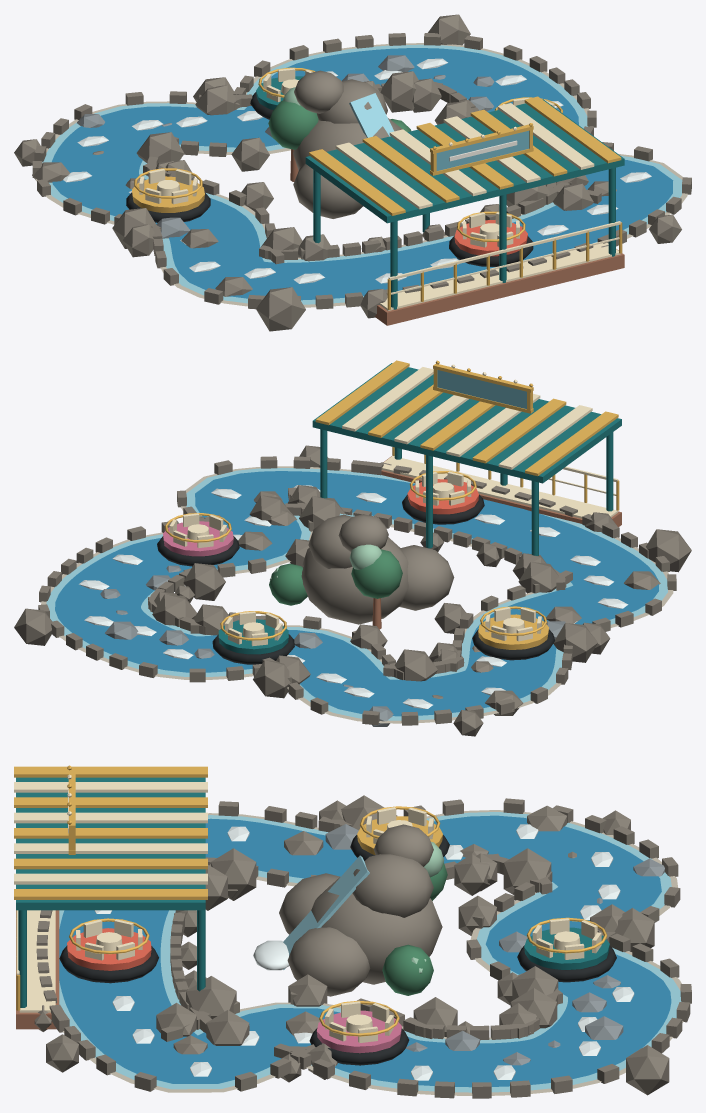
The model's file is ride_rapids.glb.
The picture shows the model from 3 angles, top to bottom: view 1: azimuth 30°, elevation 25°; view 2: azimuth 150°, elevation 25°; view 3: azimuth 270°, elevation 25°; orthographic projection. The views are drawn at different scales.
Visible parts, largest first — view 1: ride_rapids; view 2: ride_rapids; view 3: ride_rapids.
Part boxes in pixels (x1,y1,x2,y2): ride_rapids: [14, 14, 691, 331]; ride_rapids: [14, 360, 691, 736]; ride_rapids: [14, 765, 691, 1098].
Size of the model in its own units: 15.85 by 4.71 by 15.74.
